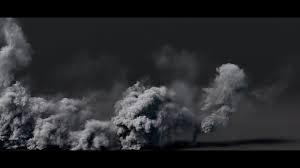smoke: (1, 21, 250, 150)
